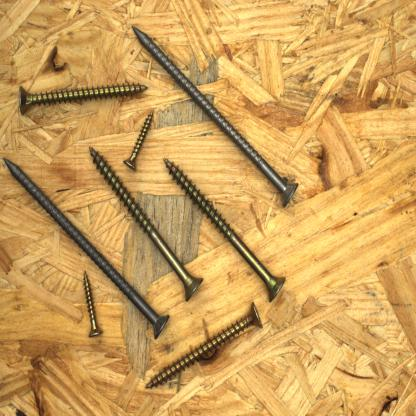screw: (130, 21, 300, 212), (2, 155, 172, 341), (162, 155, 290, 306), (143, 298, 267, 392), (16, 80, 150, 118), (76, 266, 106, 342), (121, 108, 156, 173)
